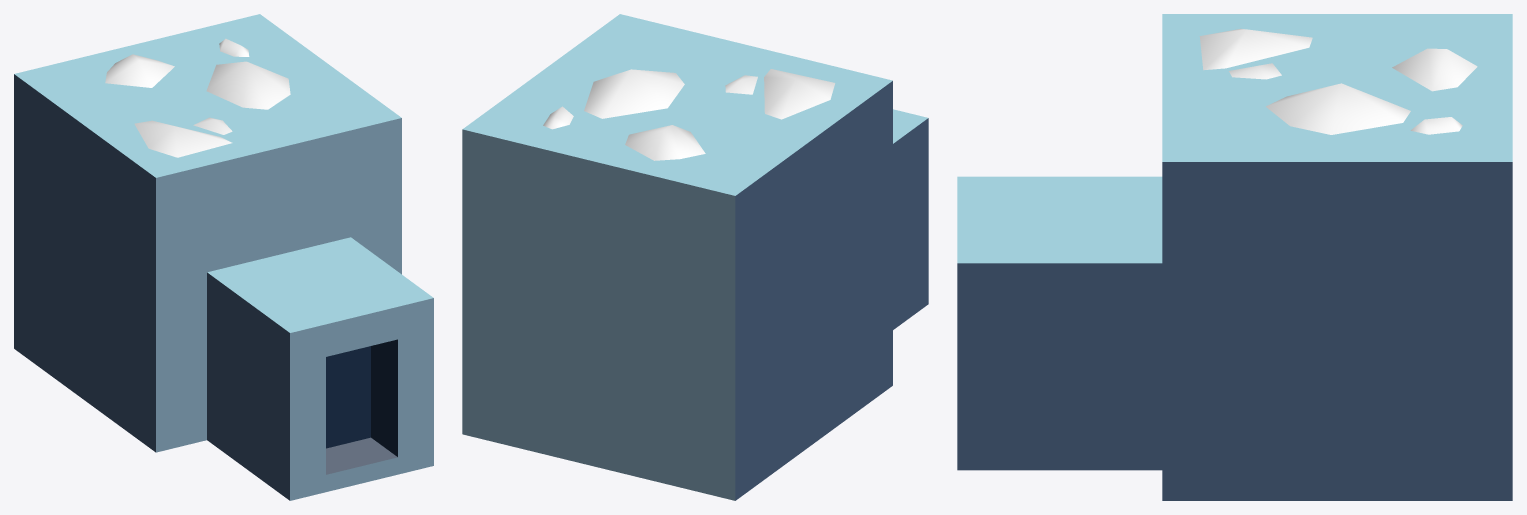
File: iceHouseA.fbx
The picture shows the model from 3 angles, left to right: view 1: azimuth 30°, elevation 25°; view 2: azimuth 150°, elevation 25°; view 3: azimuth 270°, elevation 25°; orthographic projection. The views are drawn at different scales.
Parts seen in each view (by area): view 1: iceHouseA_living, iceHouseA_entrance, snow3, snow1, snow5; view 2: iceHouseA_living, iceHouseA_entrance, snow3, snow1, snow5; view 3: iceHouseA_living, iceHouseA_entrance, snow3, snow1, snow5, snow4.
Part boxes in pixels (<box>): iceHouseA_living: <box>14,14,401,452</box>; iceHouseA_entrance: <box>207,237,433,500</box>; snow3: <box>206,61,290,109</box>; snow1: <box>134,120,232,157</box>; snow5: <box>105,54,174,87</box>; iceHouseA_living: <box>462,14,892,500</box>; iceHouseA_entrance: <box>893,109,928,329</box>; snow3: <box>584,69,684,118</box>; snow1: <box>764,69,835,119</box>; snow5: <box>625,125,705,160</box>; iceHouseA_living: <box>1162,14,1512,500</box>; iceHouseA_entrance: <box>957,176,1162,470</box>; snow3: <box>1266,83,1410,134</box>; snow1: <box>1199,28,1312,70</box>; snow5: <box>1392,48,1477,91</box>; snow4: <box>1410,117,1462,134</box>.
Size of the model in its own units: 149 by 172 by 236.
1 material, 1 textured.
